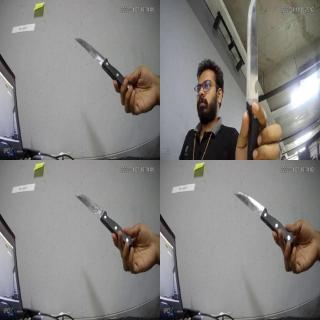knife: (240, 0, 268, 130), (73, 193, 133, 251), (232, 191, 295, 246), (74, 36, 126, 90)
